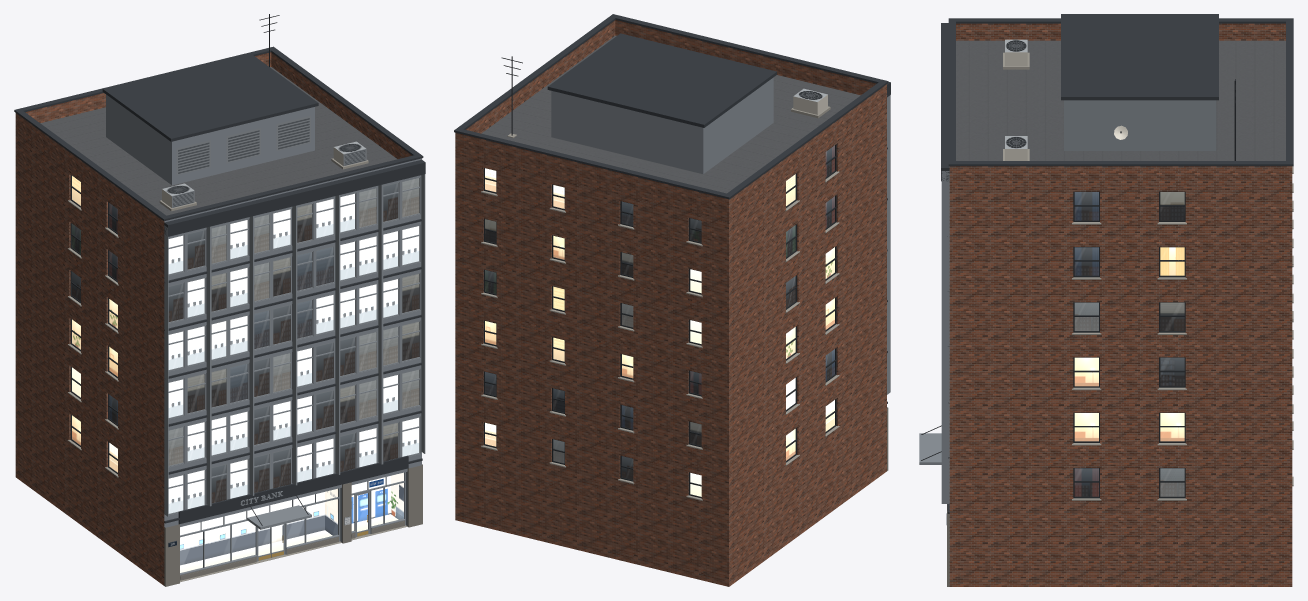
Rendered from Bank.fbx.
3 views of the same model, side by side, from view 1: azimuth 30°, elevation 25°; view 2: azimuth 150°, elevation 25°; view 3: azimuth 270°, elevation 25° (orthographic). The views are drawn at different scales.
Visible parts, largest first — view 1: Bank_Mesh; view 2: Bank_Mesh; view 3: Bank_Mesh.
Boxes of the visible parts, x1,y1,x2,y2 form: Bank_Mesh: (14,14,425,586); Bank_Mesh: (454,14,890,586); Bank_Mesh: (919,14,1293,586).
Bounding box in the file's own units: 18.14 × 28.4 × 19.67.
